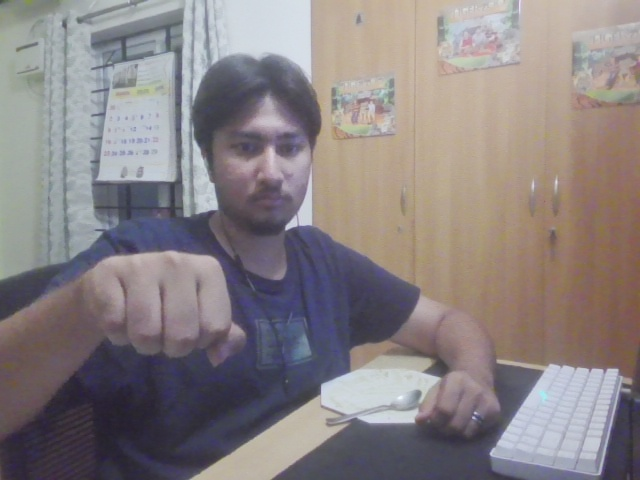yes: (78, 247, 257, 372)
